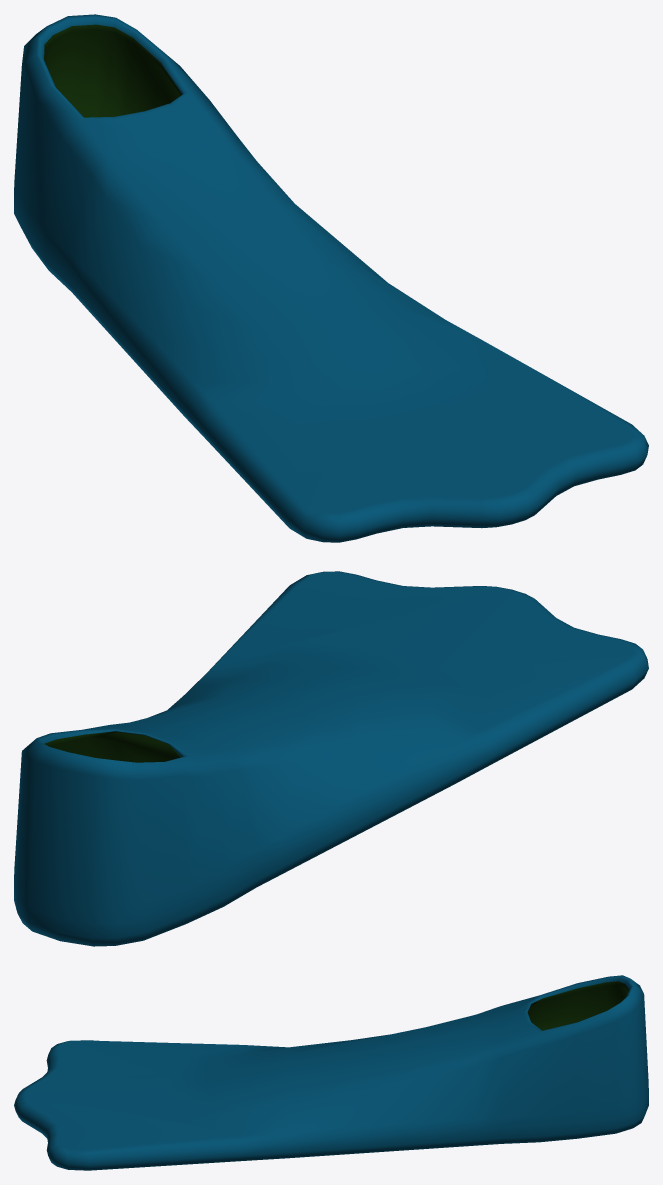
Rendered from DiversFloatedLeft.fbx.
3 renders of one model, top to bottom at view 1: azimuth 30°, elevation 25°; view 2: azimuth 150°, elevation 25°; view 3: azimuth 270°, elevation 25°, orthographic. The views are drawn at different scales.
Parts seen in each view (by area): view 1: DiversFloatedLeft; view 2: DiversFloatedLeft; view 3: DiversFloatedLeft.
Boxes of the visible parts, bbox=[...] form: DiversFloatedLeft: bbox=[14, 14, 648, 542]; DiversFloatedLeft: bbox=[14, 571, 648, 946]; DiversFloatedLeft: bbox=[14, 975, 648, 1170].
Bounding box in the file's own units: 22.15 × 11.32 × 50.
